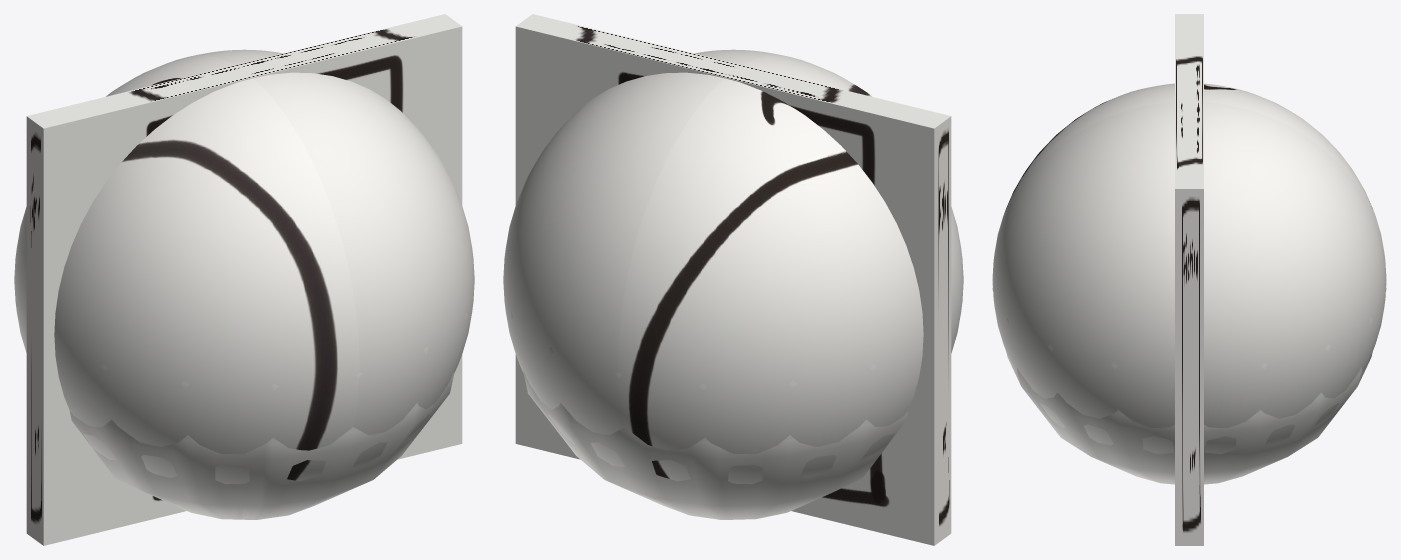
The model's file is fiction.dae.
3 views of the same model, side by side, from view 1: azimuth 30°, elevation 25°; view 2: azimuth 150°, elevation 25°; view 3: azimuth 270°, elevation 25° (orthographic). The views are drawn at different scales.
Visible parts, largest first — view 1: 球体.1, 立方体, 球体; view 2: 球体.1, 立方体, 球体; view 3: 球体.1, 立方体, 球体.
Part boxes in pixels (left/top/right/bottom): 球体.1: left=14, top=49, right=474, bottom=484; 立方体: left=26, top=14, right=462, bottom=545; 球体: left=16, top=300, right=466, bottom=519; 球体.1: left=503, top=49, right=963, bottom=484; 立方体: left=515, top=14, right=951, bottom=545; 球体: left=511, top=300, right=961, bottom=519; 球体.1: left=992, top=83, right=1386, bottom=453; 立方体: left=1175, top=14, right=1203, bottom=545; 球体: left=992, top=287, right=1386, bottom=484.
Size of the model in its own units: 210 by 205 by 200.
